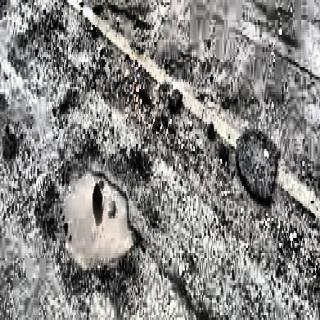pothole: (57, 146, 140, 305)
